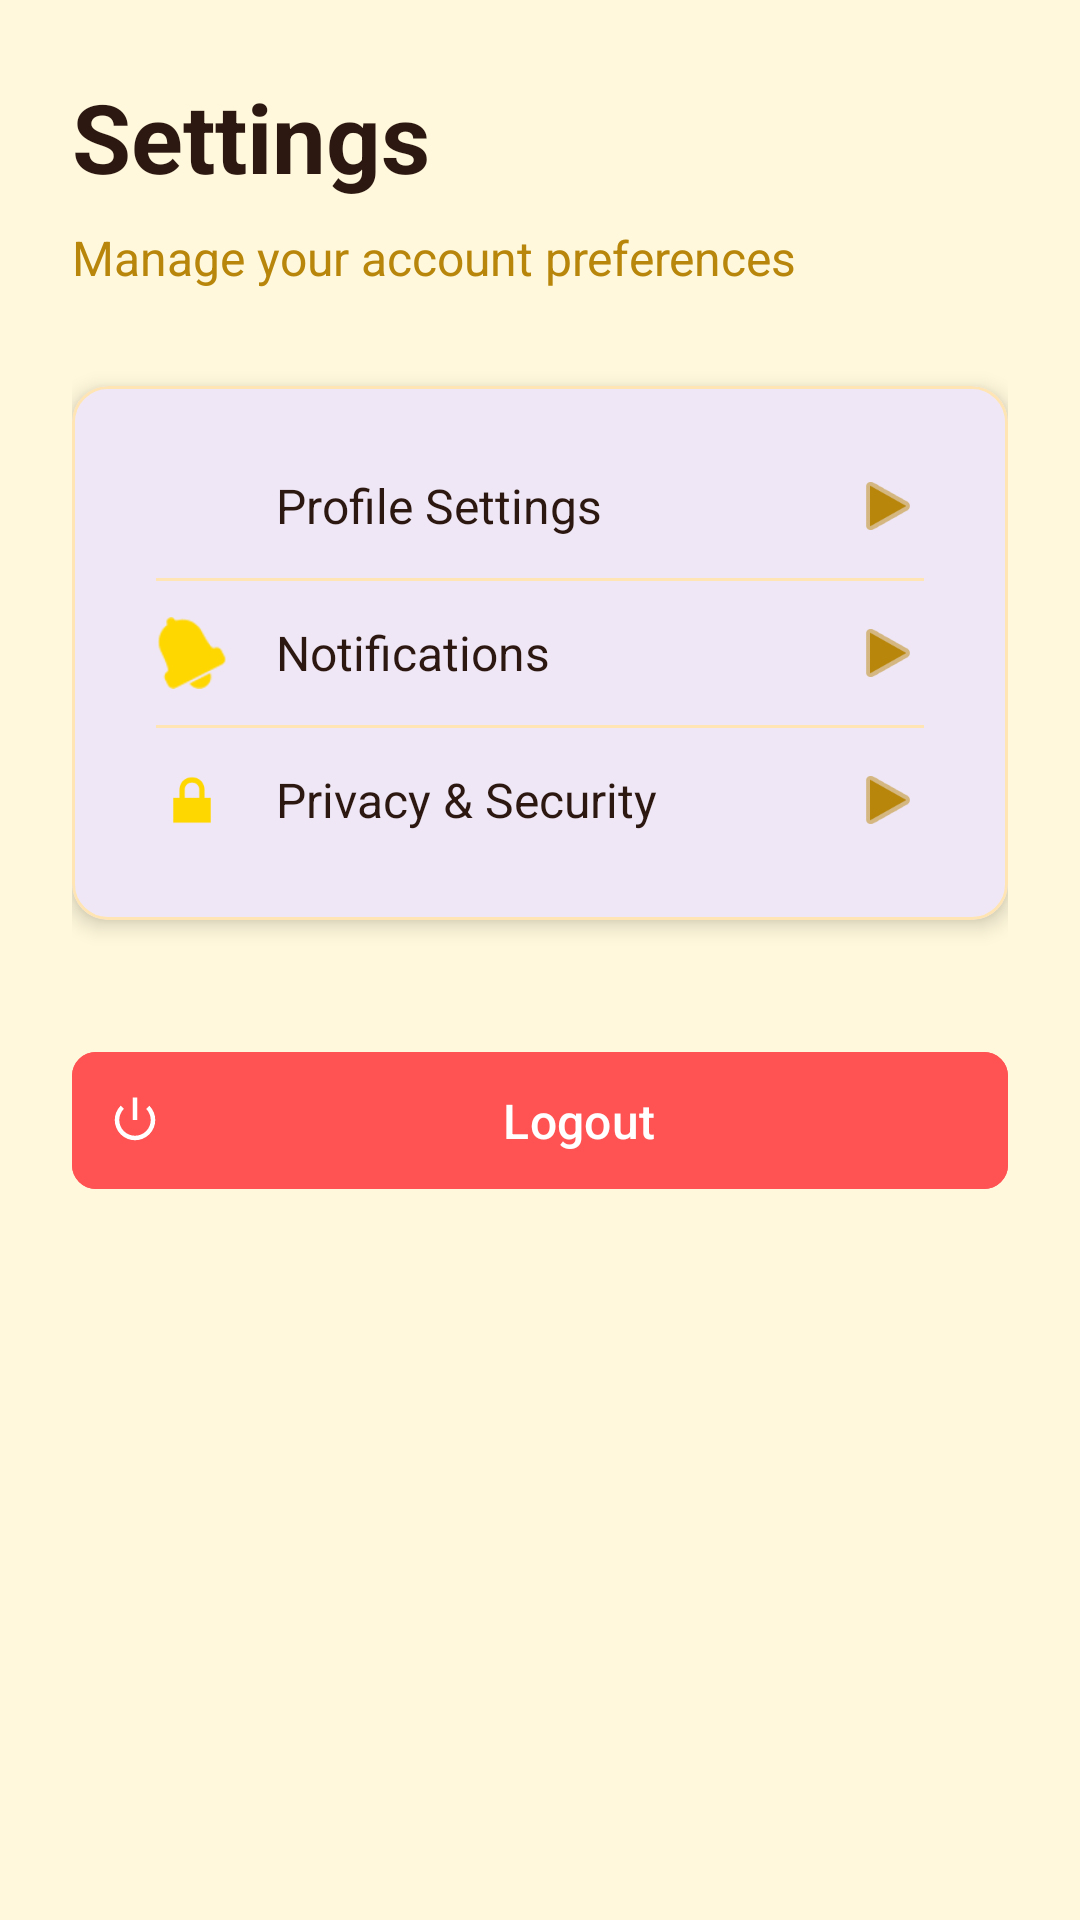

Where icons sit on this 1080*1920 app screen, as (x1, y1, x2, y2):
lock: (173, 777, 211, 823)
play: (866, 482, 910, 530), (866, 629, 910, 677), (866, 776, 910, 824)
popup reminder: (158, 617, 226, 689)
